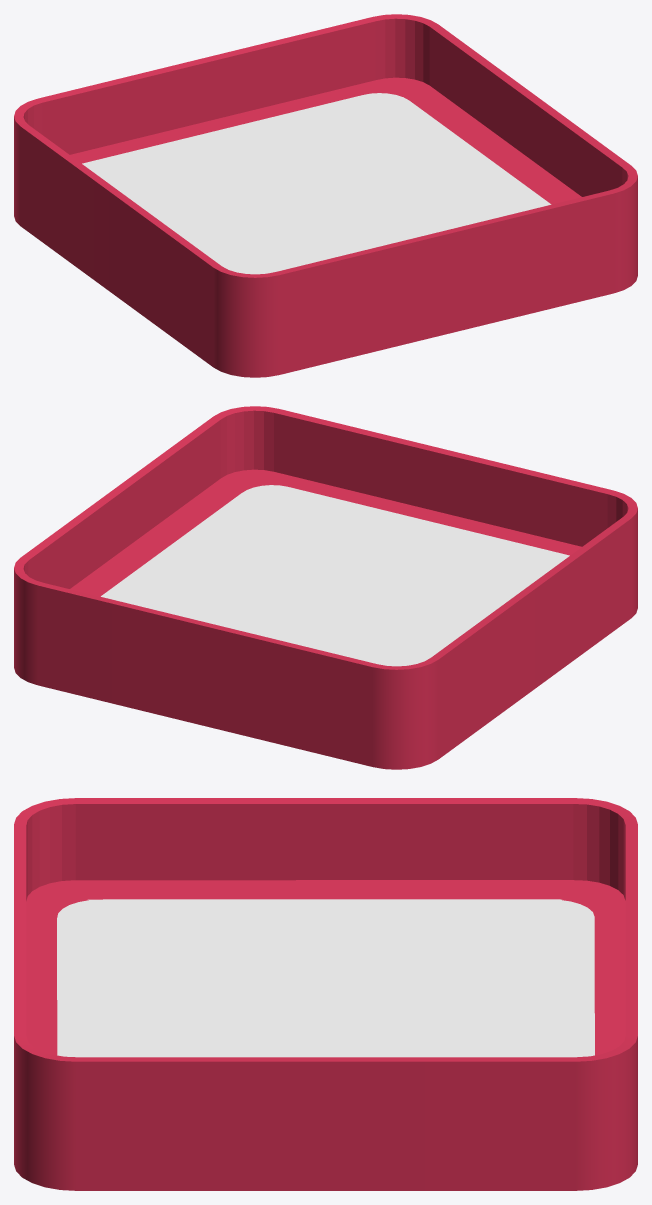
The model's file is B_ecrin_bas.gltf.
The picture shows the model from 3 angles, top to bottom: view 1: azimuth 30°, elevation 25°; view 2: azimuth 150°, elevation 25°; view 3: azimuth 270°, elevation 25°; orthographic projection. The views are drawn at different scales.
Parts seen in each view (by area): view 1: objectBas, faceBasse; view 2: objectBas, faceBasse; view 3: objectBas, faceBasse.
Part boxes in pixels (x1,y1,x2,y2): objectBas: (14, 14, 637, 377); faceBasse: (82, 93, 551, 274); objectBas: (14, 406, 637, 769); faceBasse: (101, 485, 569, 666); objectBas: (14, 798, 637, 1190); faceBasse: (57, 899, 594, 1057).
Size of the model in its own units: 2.54 by 0.5798 by 2.54.
